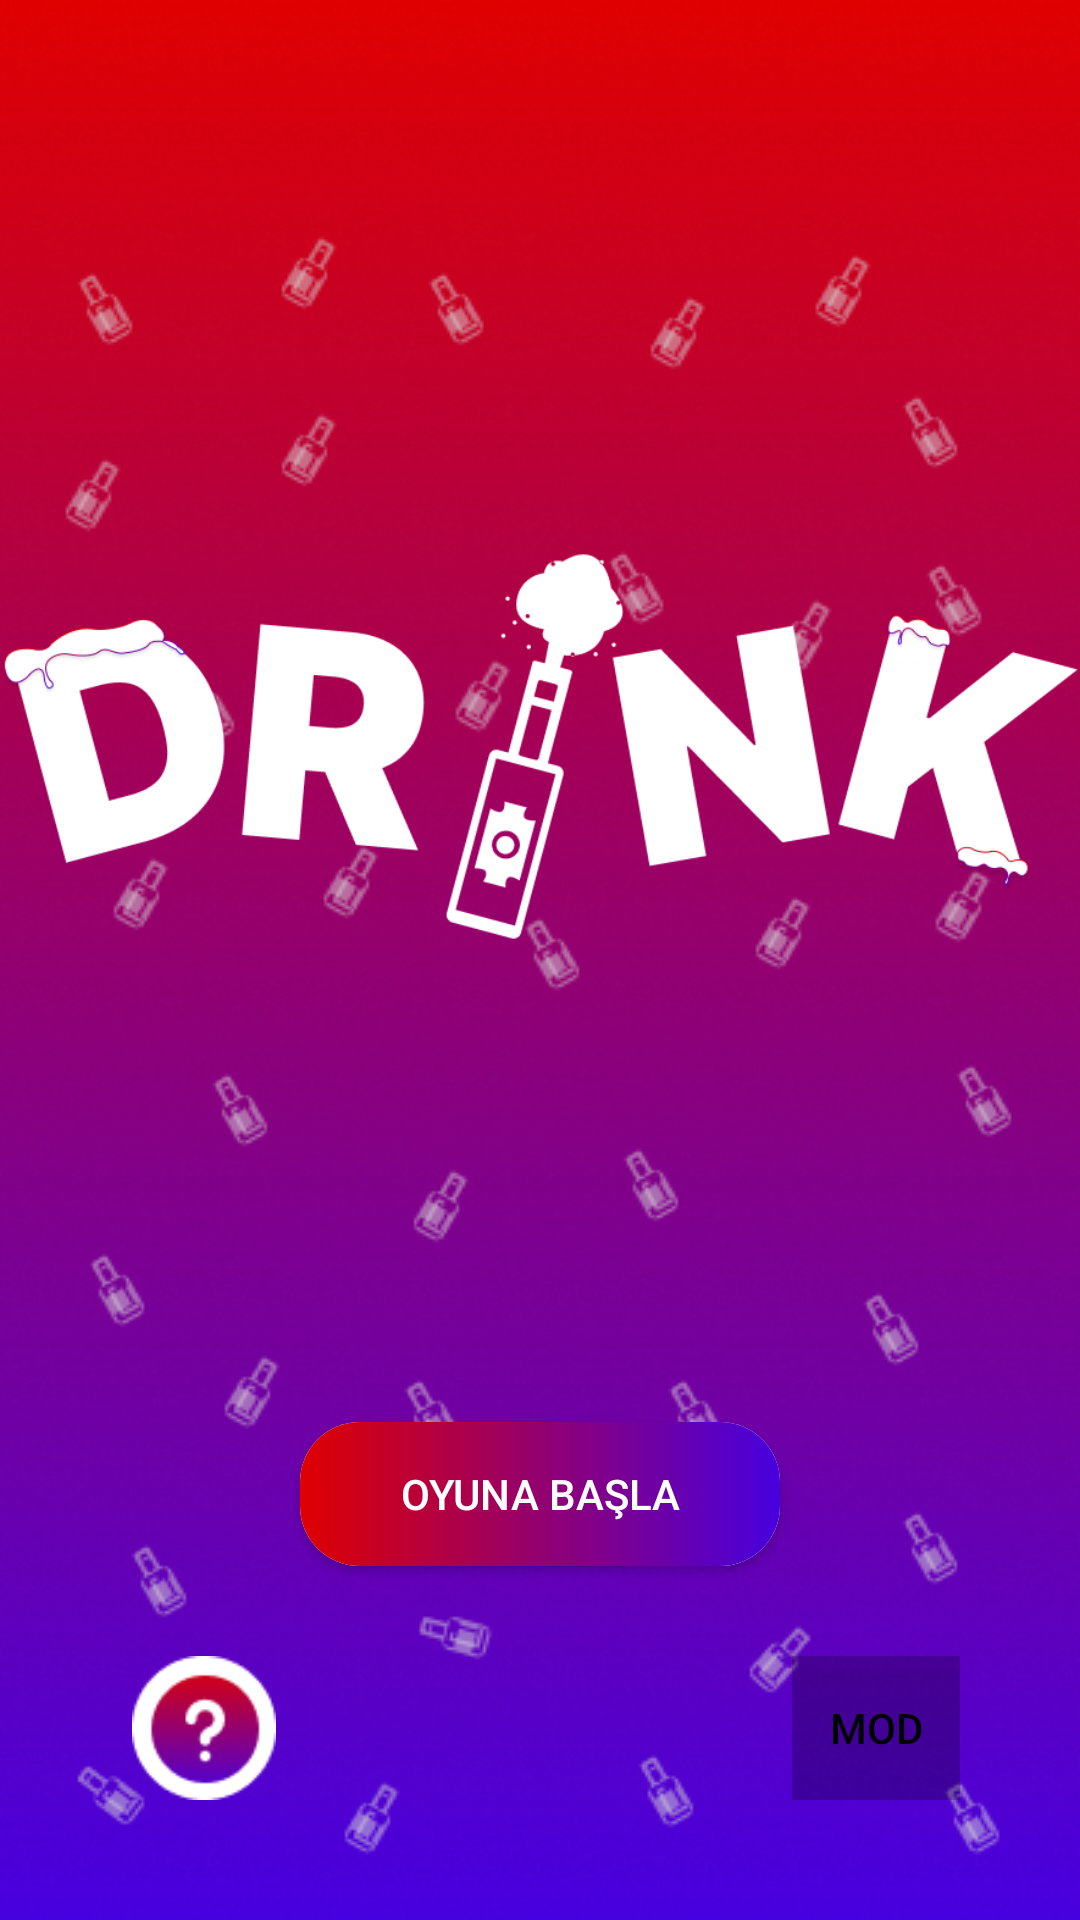

Icons on this 1080 x 1920 Android screen, each with the point to tap as (x,y):
how to play: (204,1728)
